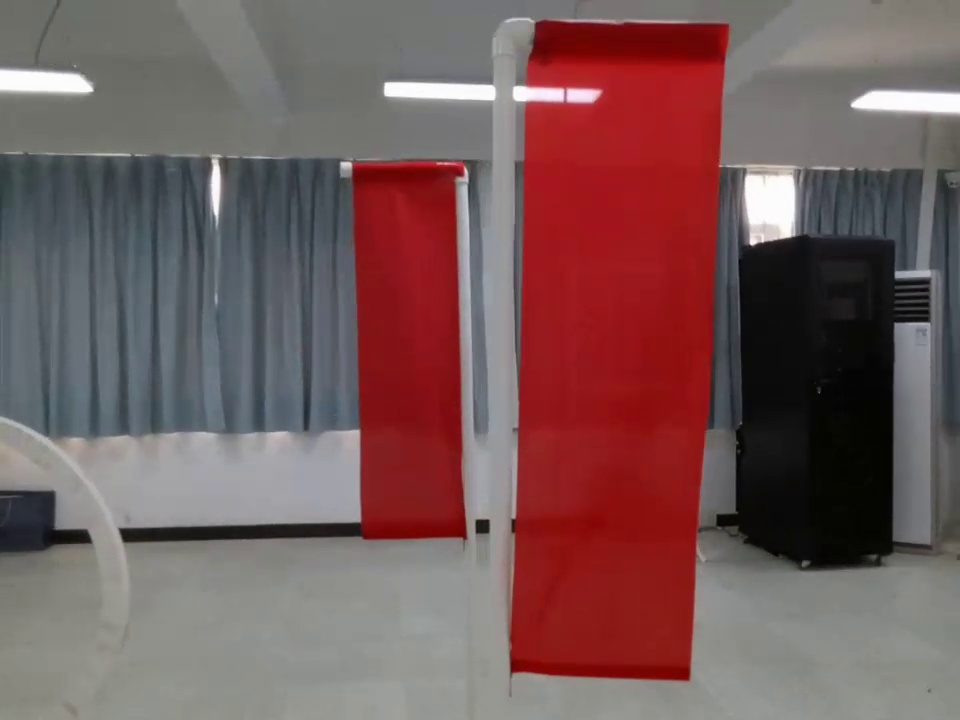qi: (483, 12, 721, 687), (344, 152, 478, 552)
